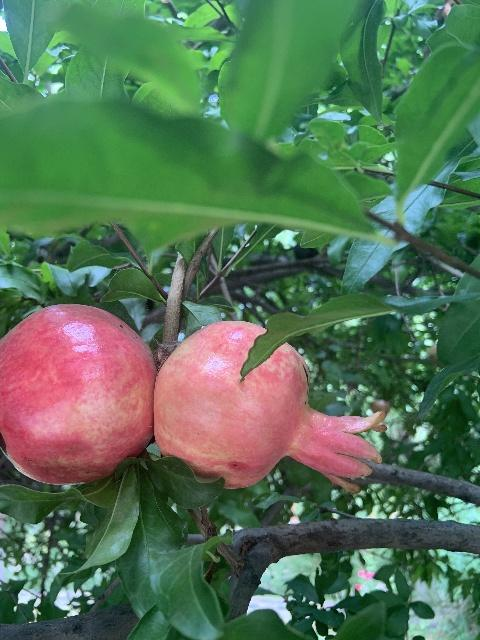ripe: (153, 321, 385, 494), (0, 303, 155, 483)
